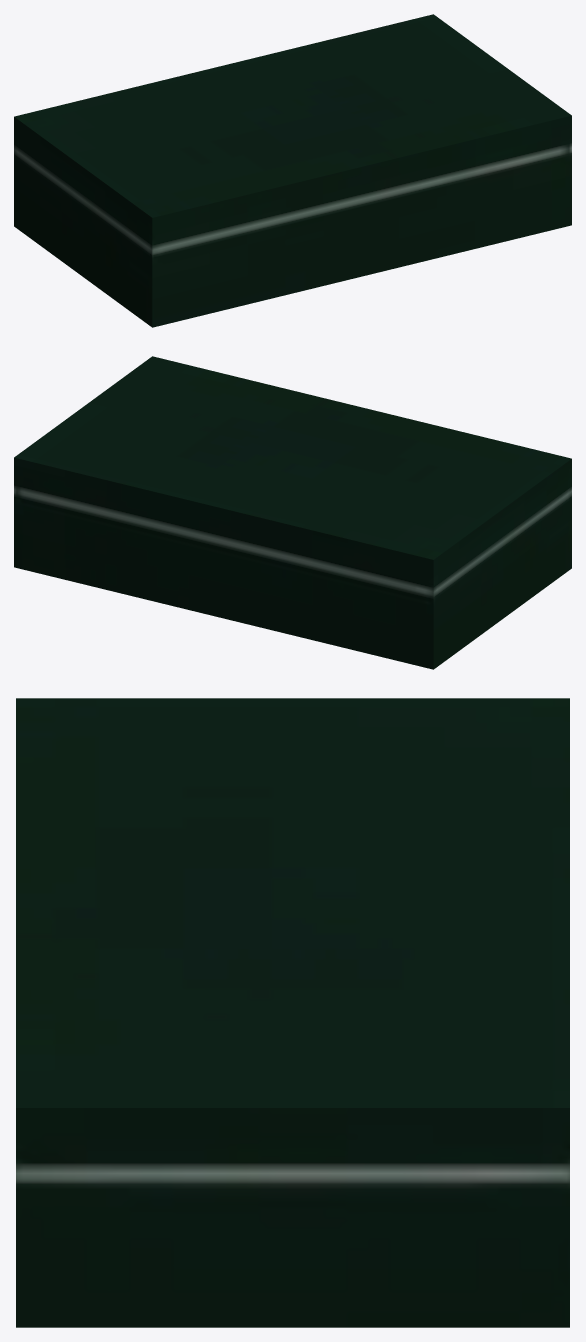
File: mode_button_0__button_cap.glb
3 views of the same model, one above another, from view 1: azimuth 30°, elevation 25°; view 2: azimuth 150°, elevation 25°; view 3: azimuth 270°, elevation 25° (orthographic). The views are drawn at different scales.
Visible parts, largest first — view 1: geometry_0; view 2: geometry_0; view 3: geometry_0.
Part boxes in pixels (box(x1,y1,x2,y2)): geometry_0: box(14, 14, 571, 327); geometry_0: box(14, 356, 571, 669); geometry_0: box(16, 698, 569, 1327).
Size of the model in its own units: 0.028 by 0.007 by 0.016.
Materials: 1 (1 with a texture image).
